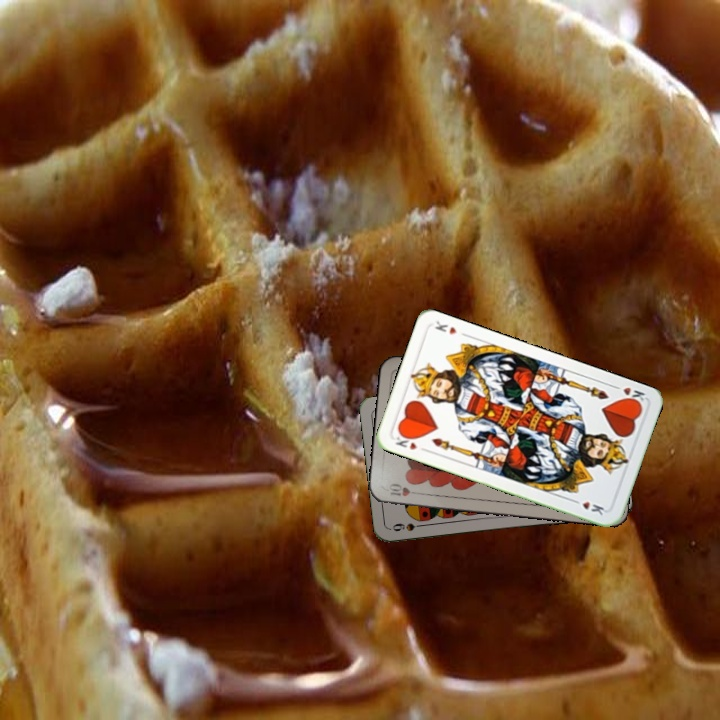H10: (385, 480, 424, 499)
HK: (609, 381, 648, 408), (391, 429, 429, 454)
S9: (388, 519, 429, 534)
